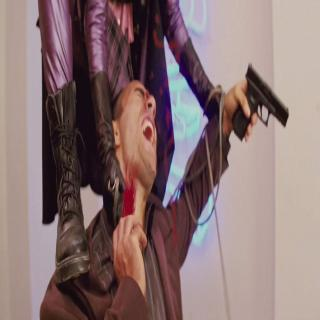gun: (232, 59, 290, 141)
